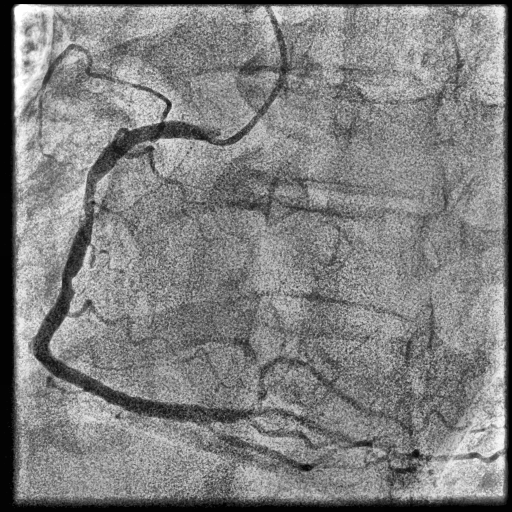pborca: (255, 357, 438, 433)
pda: (264, 407, 350, 441)
rca: (32, 121, 263, 425)
